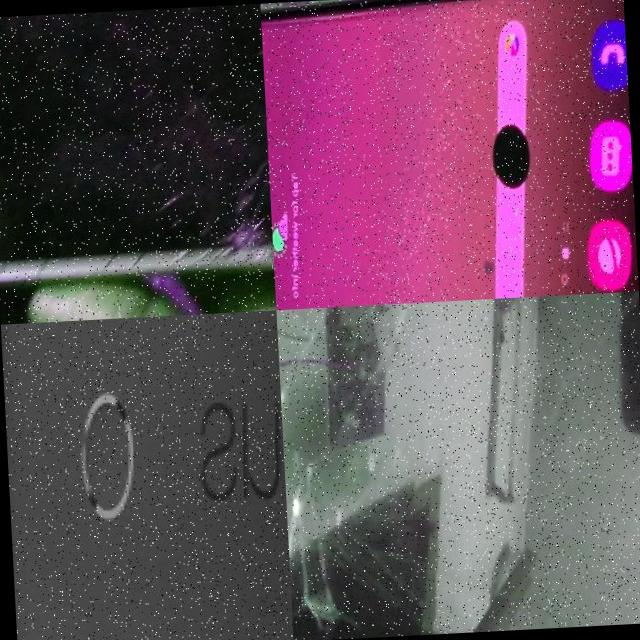dead pixel: (461, 72, 564, 225), (476, 249, 510, 287)
screen crack: (0, 3, 273, 292), (275, 300, 467, 640), (527, 290, 640, 492)
